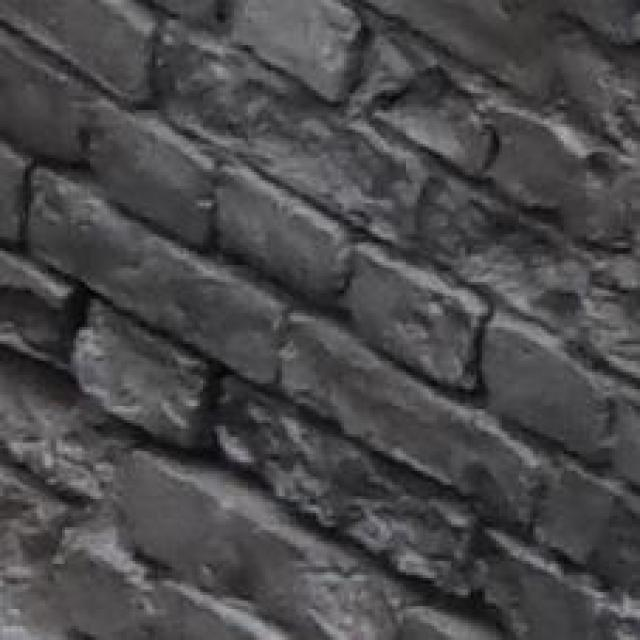Crack: (2, 221, 446, 619)
